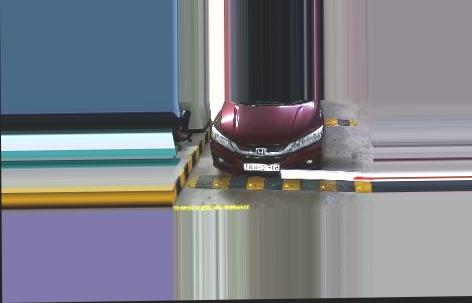License_Plate: (243, 159, 281, 171)
